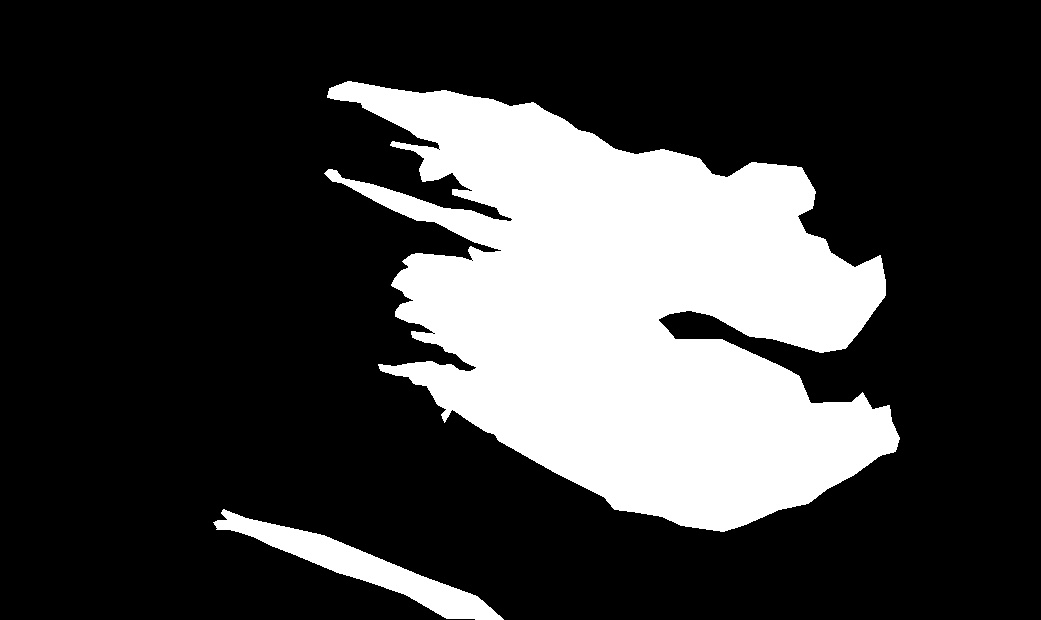Fire: (316, 76, 884, 434), (209, 507, 342, 562)
